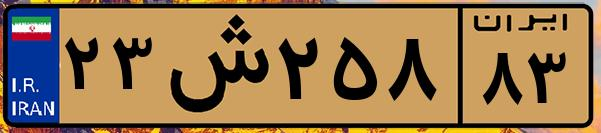2: (270, 28, 330, 110), (57, 26, 110, 100)
3: (525, 38, 570, 115), (110, 28, 158, 98)
5: (330, 28, 385, 110)
8: (385, 28, 445, 110), (475, 38, 525, 113)
ش: (158, 12, 270, 120)
